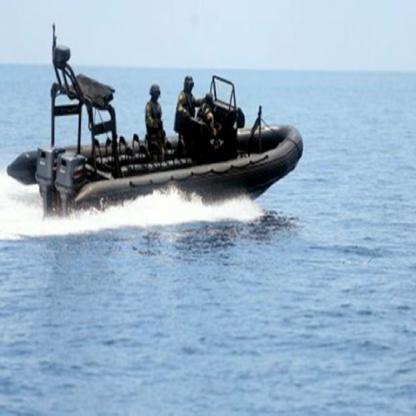boat: (19, 118, 314, 220)
